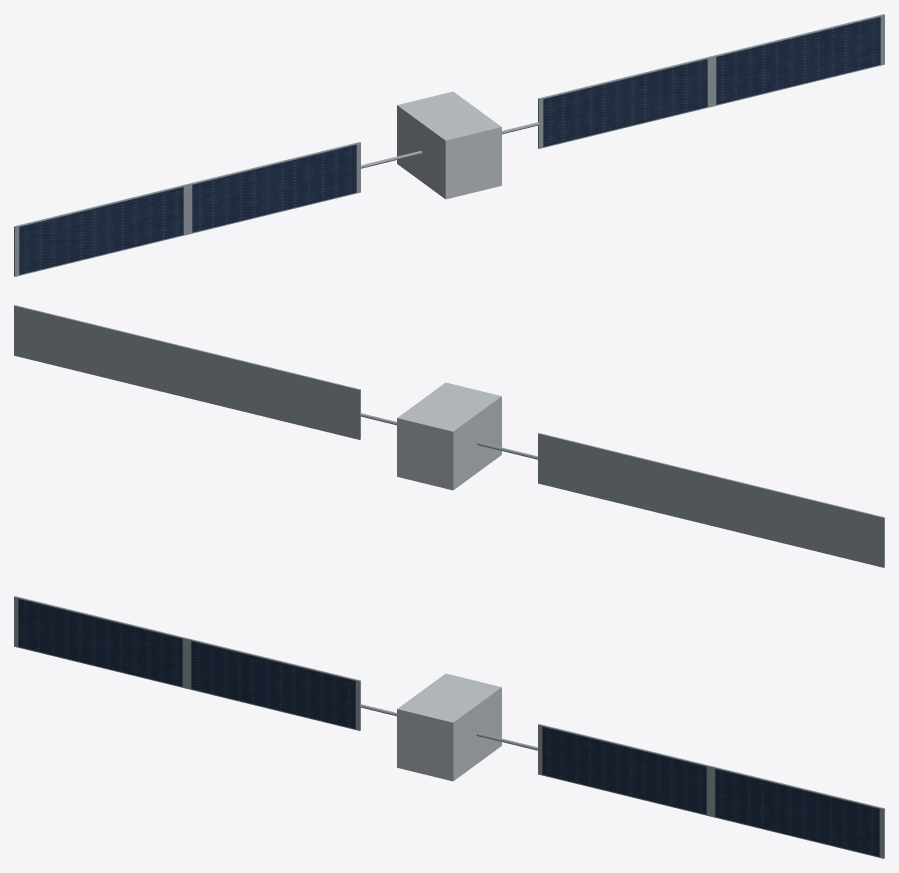
The model's file is ref-ets-6-25175.glb.
3 renders of one model, top to bottom at view 1: azimuth 30°, elevation 25°; view 2: azimuth 150°, elevation 25°; view 3: azimuth 330°, elevation 25°, orthographic.
Visible parts, largest first — view 1: Photovoltaic laminates (×4), Spacecraft body, Array frame (×4); view 2: Array frame (×4), Spacecraft body; view 3: Photovoltaic laminates (×4), Spacecraft body, Array frame (×4).
Boxes of the visible parts, x1,y1,x2,y2 form: Photovoltaic laminates (×4): [19, 17, 880, 274]; Spacecraft body: [397, 91, 501, 199]; Array frame (×4): [14, 14, 884, 276]; Array frame (×4): [14, 305, 884, 567]; Spacecraft body: [397, 382, 501, 490]; Photovoltaic laminates (×4): [18, 599, 879, 856]; Spacecraft body: [397, 673, 501, 781]; Array frame (×4): [14, 596, 884, 858].
Bounding box in the file's own units: 31 × 2 × 3.
3 materials, 1 textured.
